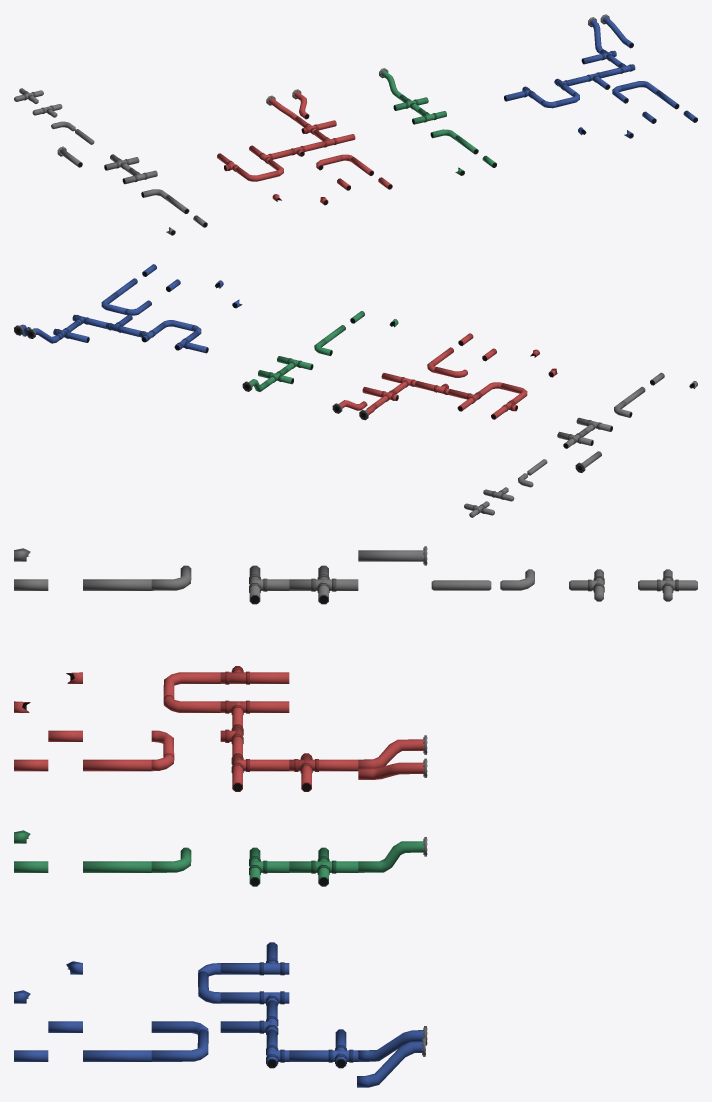
The model's file is AtmosphericPipes.fbx.
The picture shows the model from 3 angles, top to bottom: view 1: azimuth 30°, elevation 25°; view 2: azimuth 150°, elevation 25°; view 3: azimuth 270°, elevation 25°; orthographic projection. The views are drawn at different scales.
Parts seen in each view (by area): view 1: no part large enough to name; view 2: no part large enough to name; view 3: PipesLayer3X, PipesLayer1X, PipesLayer2X, PipesLayer4X, PipesLayer1T4, PipesLayer3T1, PipesLayer1To4South, PipesLayer3T3, PipesLayer2To4Connector, PipesLayer1T2, PipesLayer3T4, PipesLayer3To4North (+10 smaller).
Part boxes in pixels (bbox=[...]): PipesLayer3X: bbox=[289, 753, 358, 791]; PipesLayer1X: bbox=[289, 1029, 358, 1068]; PipesLayer2X: bbox=[289, 847, 358, 886]; PipesLayer4X: bbox=[289, 565, 358, 604]; PipesLayer1T4: bbox=[220, 942, 289, 975]; PipesLayer3T1: bbox=[231, 753, 289, 791]; PipesLayer1To4South: bbox=[357, 1037, 425, 1087]; PipesLayer3T3: bbox=[220, 700, 289, 726]; PipesLayer2To4Connector: bbox=[358, 837, 427, 872]; PipesLayer1T2: bbox=[220, 1000, 278, 1034]; PipesLayer3T4: bbox=[220, 666, 289, 684]; PipesLayer3To4North: bbox=[358, 735, 427, 768].
Bounding box in the file's own units: 1734 × 65.86 × 994.
